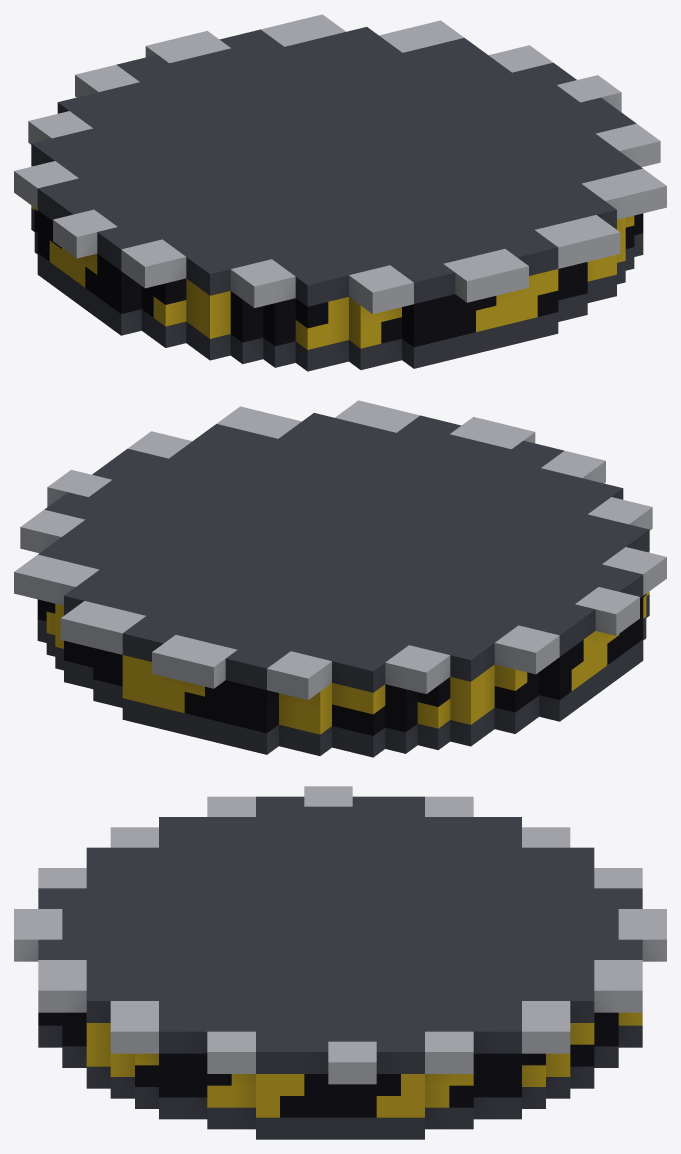
The model's file is decoupler_s.glb.
3 views of the same model, one above another, from view 1: azimuth 30°, elevation 25°; view 2: azimuth 150°, elevation 25°; view 3: azimuth 270°, elevation 25° (orthographic).
Visible parts, largest first — view 1: decoupler_s; view 2: decoupler_s; view 3: decoupler_s.
Part boxes in pixels (x1,y1,x2,y2): decoupler_s: (14,14,666,371); decoupler_s: (14,400,666,757); decoupler_s: (14,786,666,1139).
Bounding box in the file's own units: 1.35 × 0.2 × 1.35.
